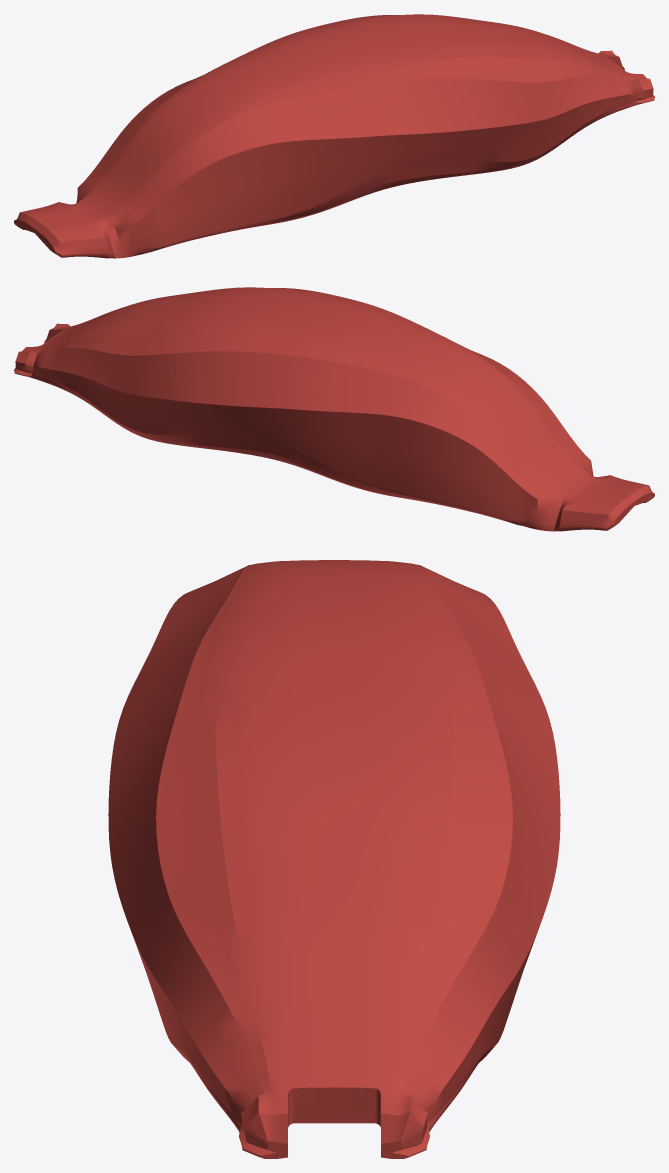
Rendered from sports_tourer_3_lod1.glb.
3 views of the same model, one above another, from view 1: azimuth 30°, elevation 25°; view 2: azimuth 150°, elevation 25°; view 3: azimuth 270°, elevation 25° (orthographic). The views are drawn at different scales.
Visible parts, largest first — view 1: sports_tourer_3_lod1; view 2: sports_tourer_3_lod1; view 3: sports_tourer_3_lod1.
Boxes of the visible parts, <box> form: sports_tourer_3_lod1: <box>14,14,654,258</box>; sports_tourer_3_lod1: <box>14,287,654,531</box>; sports_tourer_3_lod1: <box>108,560,560,1158</box>.
Size of the model in its own units: 1.29 by 0.2679 by 0.418.
